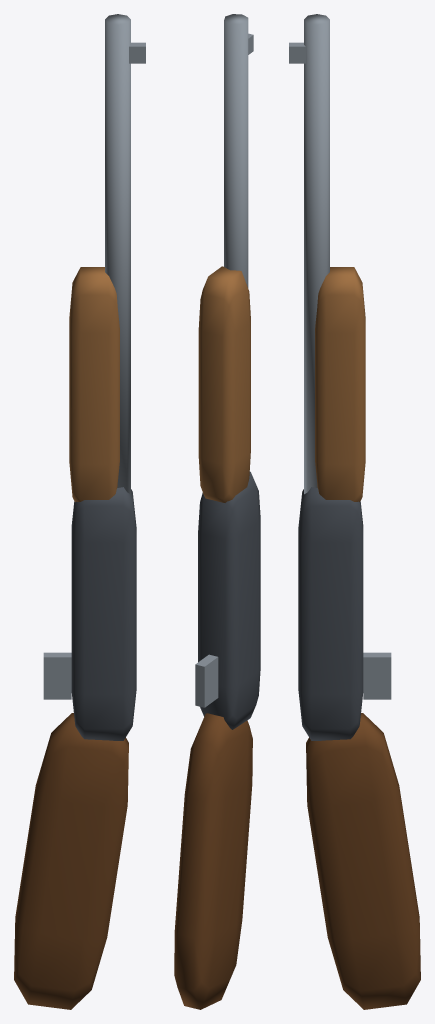
The model's file is weapon_senapan.glb.
3 views of the same model, side by side, from view 1: azimuth 90°, elevation 25°; view 2: azimuth 150°, elevation 25°; view 3: azimuth 270°, elevation 25° (orthographic). The views are drawn at different scales.
Parts seen in each view (by area): view 1: pickup_senapan; view 2: pickup_senapan; view 3: pickup_senapan.
Part boxes in pixels (x1,y1,x2,y2): pickup_senapan: [14, 14, 145, 1009]; pickup_senapan: [174, 14, 260, 1009]; pickup_senapan: [289, 14, 420, 1009].
Bounding box in the file's own units: 0.05 × 1.17 × 0.1417.
